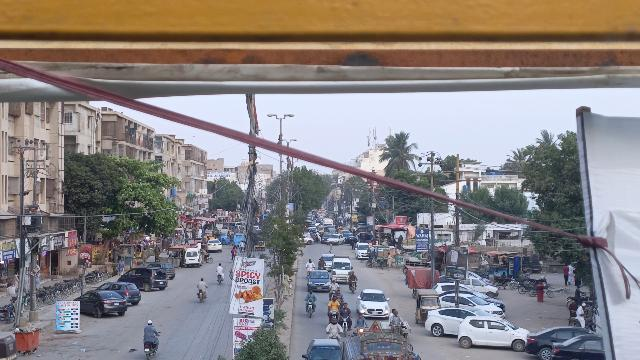Bike: (566, 315, 595, 329), (141, 339, 158, 359), (303, 298, 318, 318), (337, 314, 353, 331), (347, 279, 359, 296), (196, 289, 206, 305), (327, 310, 340, 322), (327, 288, 339, 298), (354, 326, 368, 334), (216, 274, 225, 286)
Car: (455, 314, 529, 351), (526, 325, 588, 358), (423, 304, 481, 336), (73, 289, 127, 318), (442, 293, 504, 317), (546, 336, 604, 360), (117, 267, 169, 291), (356, 287, 392, 317), (98, 280, 141, 305), (302, 336, 343, 360), (308, 269, 331, 292)
Cart: (379, 308, 413, 337)
Person: (140, 317, 159, 342), (325, 317, 343, 335), (389, 308, 404, 326), (326, 294, 340, 311), (195, 277, 208, 293), (574, 302, 587, 318), (355, 312, 368, 327), (305, 288, 318, 302), (340, 301, 351, 315), (328, 278, 340, 290), (347, 270, 359, 281), (305, 258, 316, 269), (214, 263, 224, 275), (317, 257, 326, 266)
Rickshaw: (414, 288, 441, 325)
Van: (330, 257, 352, 283), (184, 247, 201, 269)
